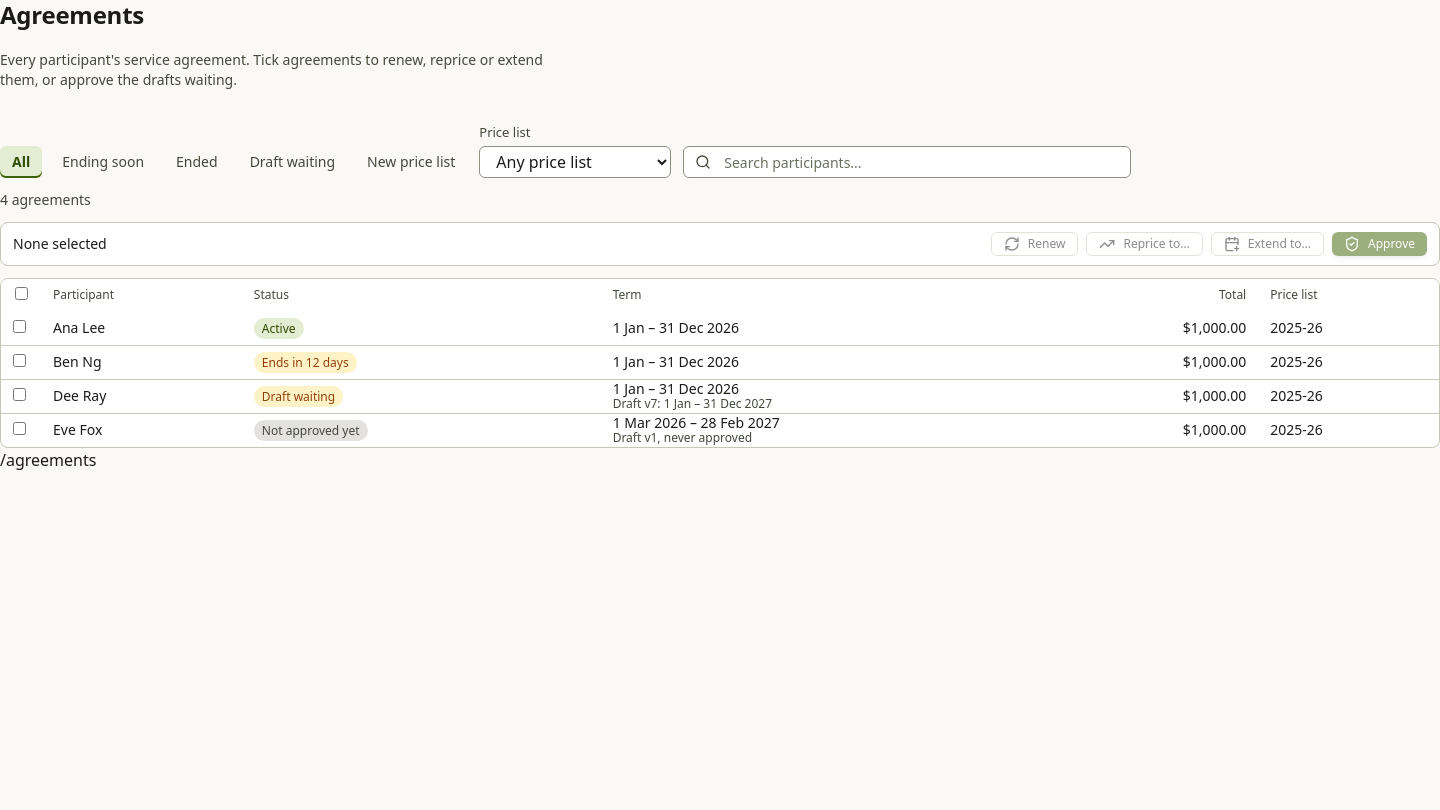
Scenario: AgreementsPage › keeps the dialog open with the words for a 429 that sent nothing
Click the checkbox named "Select row Dee Ray". click: [20, 395]
box: 13,388 -> 26,401
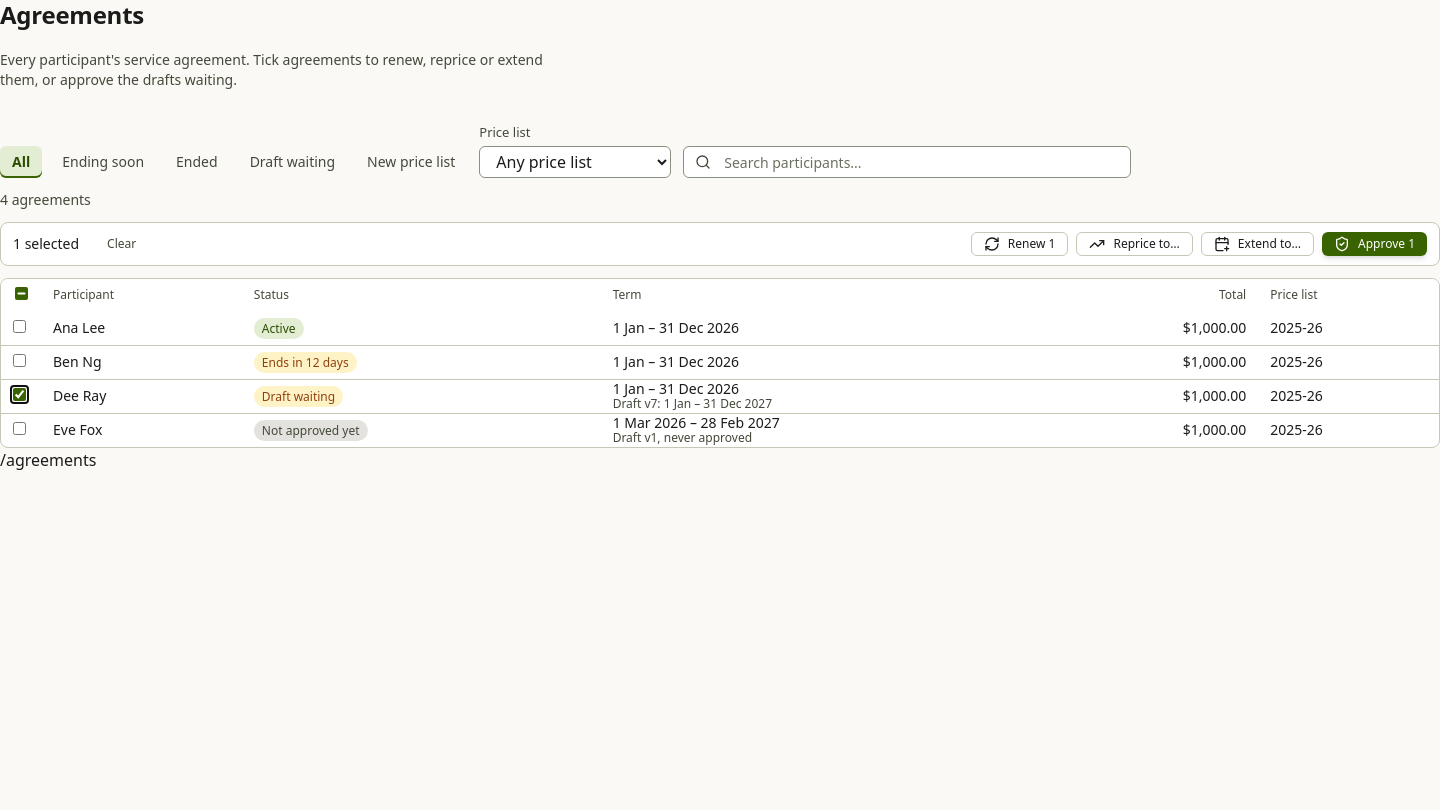
Click the button "Approve 1". click: [1374, 244]
box: 1322,232 -> 1427,256
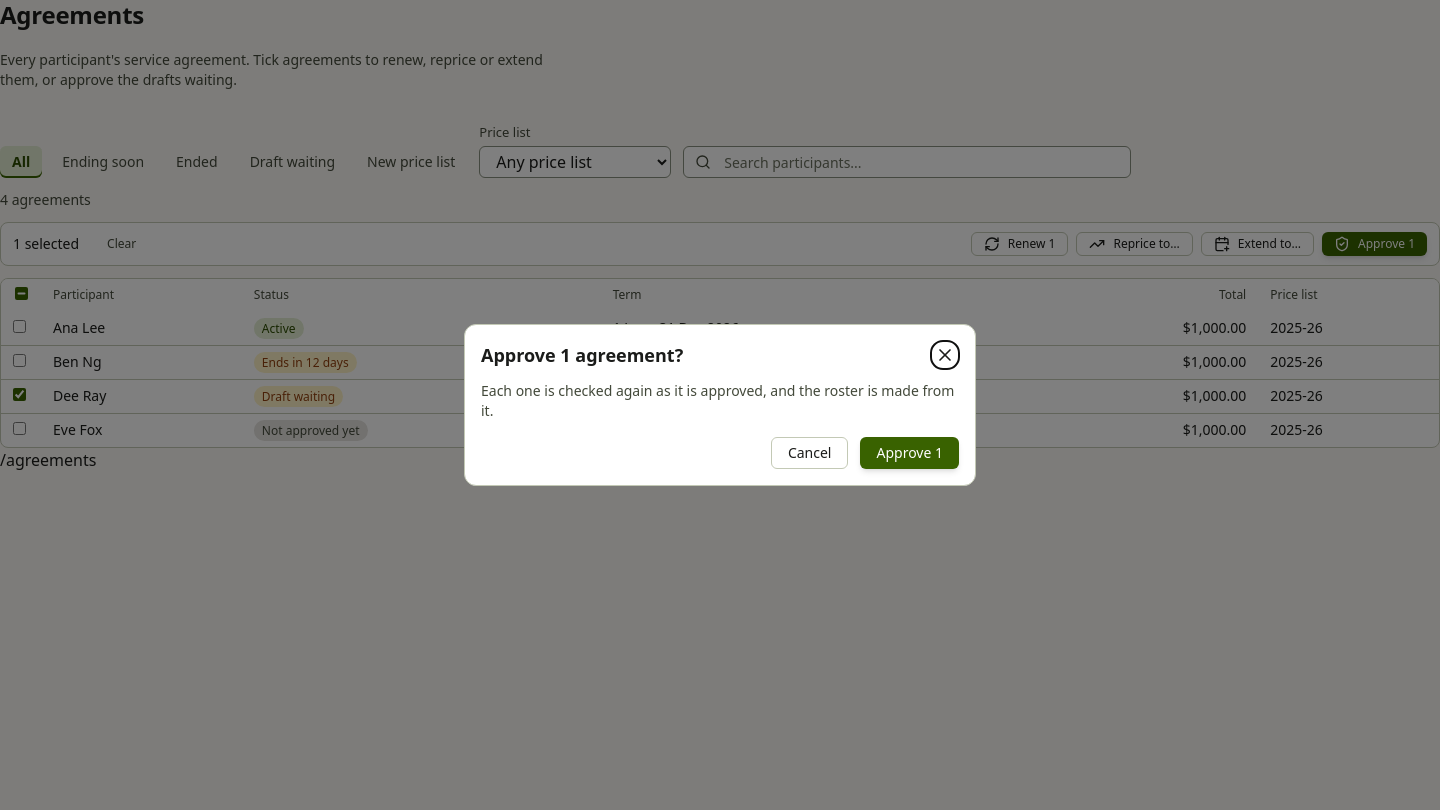
Click the button "Approve 1". click: [910, 453]
box: 860,437 -> 959,469
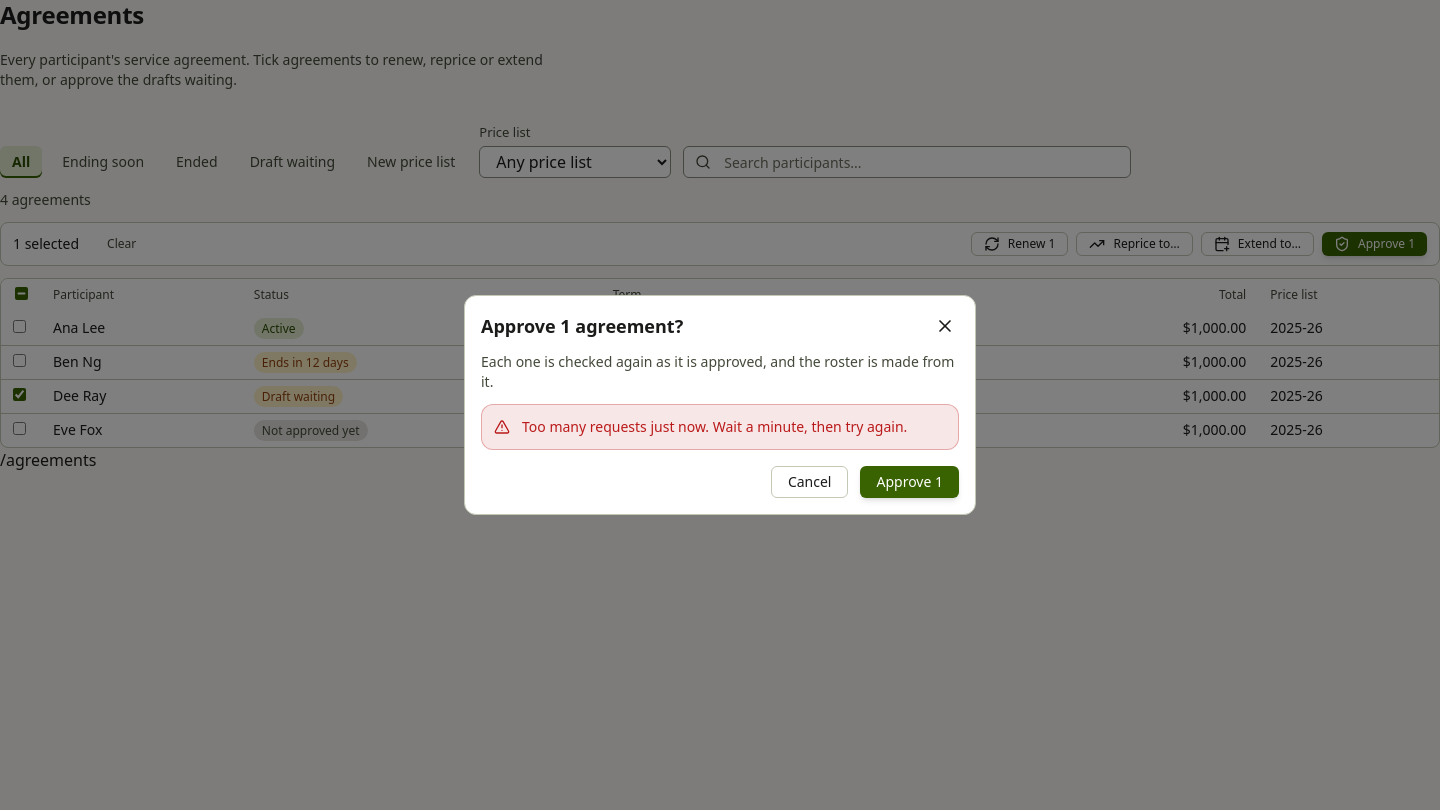
Expected: the heading "Approve 1 agreement?" is shown, 481,312 -> 683,340
Expected: the text "Too many requests just now. Wait a minute, then try again." is shown, 522,417 -> 946,437
